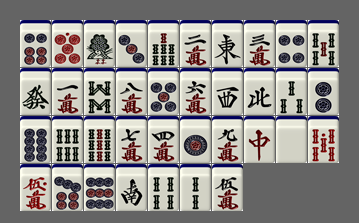0m: (20, 164, 51, 211)
0p: (52, 20, 83, 67)
0s: (308, 116, 339, 163)
1m: (52, 68, 83, 115)
1p: (180, 116, 211, 163)
1s: (84, 20, 115, 67)
1z: (212, 20, 243, 67)
2m: (180, 20, 211, 67)
2p: (308, 68, 339, 115)
2s: (180, 164, 211, 211)
2z: (116, 164, 147, 211)
3m: (244, 20, 275, 67)
3p: (116, 20, 147, 67)
3s: (276, 68, 307, 115)
3z: (212, 68, 243, 115)
4m: (148, 116, 179, 163)
4p: (276, 20, 307, 67)
4s: (148, 164, 179, 211)
4z: (244, 68, 275, 115)
5m: (212, 164, 243, 211)
5p: (148, 68, 179, 115)
5s: (308, 20, 339, 67)
5z: (276, 116, 307, 163)
6m: (180, 68, 211, 115)
6p: (20, 20, 51, 67)
6s: (52, 116, 83, 163)
6z: (20, 68, 51, 115)
7m: (116, 116, 147, 163)
7p: (52, 164, 83, 211)
7s: (148, 20, 179, 67)
7z: (244, 116, 275, 163)
8m: (116, 68, 147, 115)
8p: (20, 116, 51, 163)
8s: (84, 68, 115, 115)
9m: (212, 116, 243, 163)
9p: (84, 164, 115, 211)
9s: (84, 116, 115, 163)
